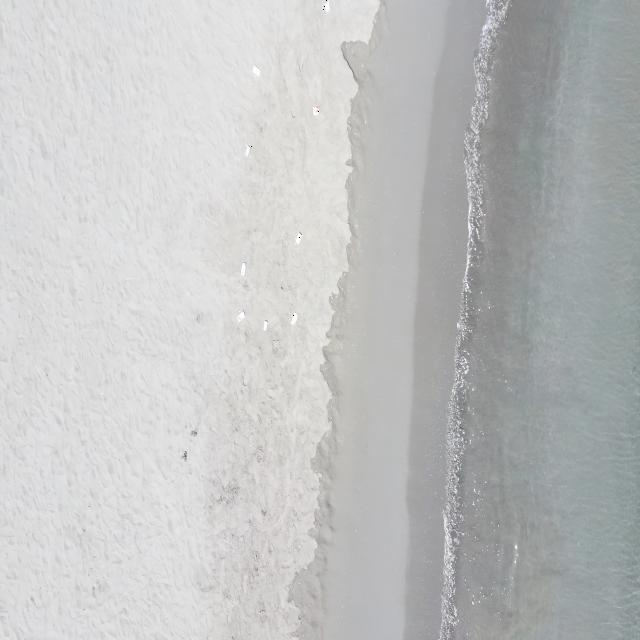Garbage: (289, 312, 296, 324), (236, 311, 243, 322)
